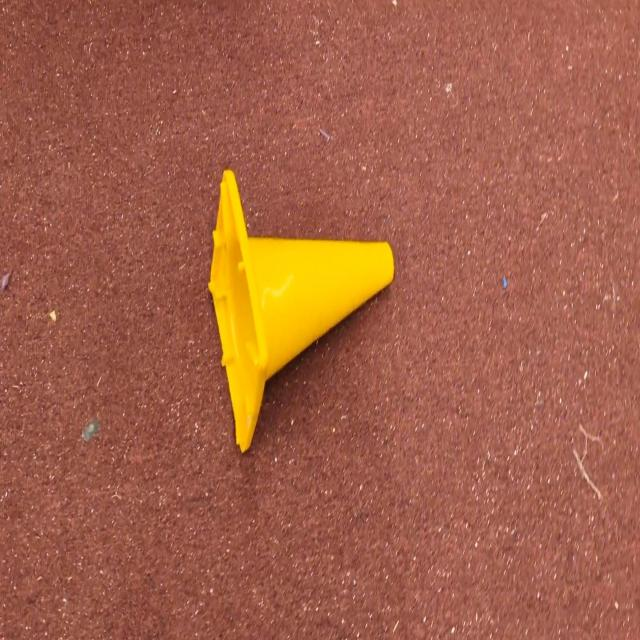frc_cone: (208, 168, 394, 456)
